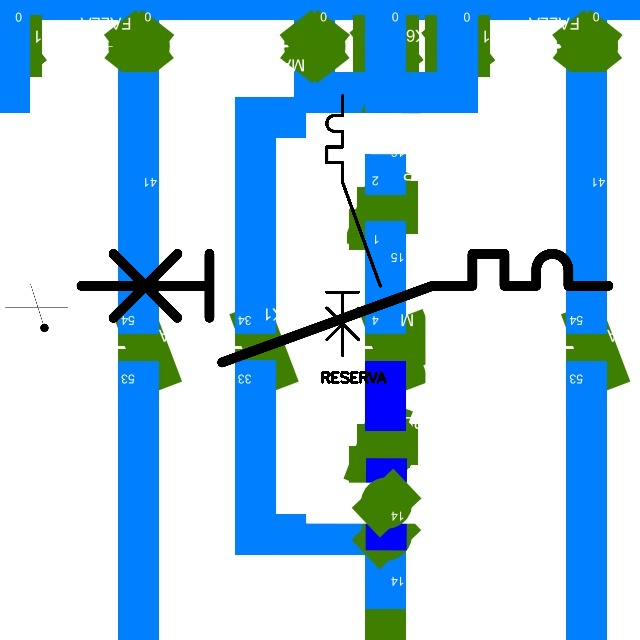interruptor_termomagnetico: (67, 240, 622, 376), (320, 89, 387, 362)
